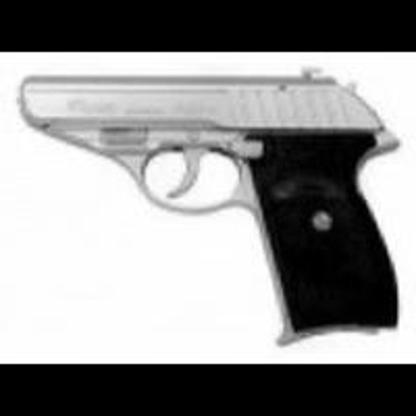weapon: (15, 62, 409, 351)
